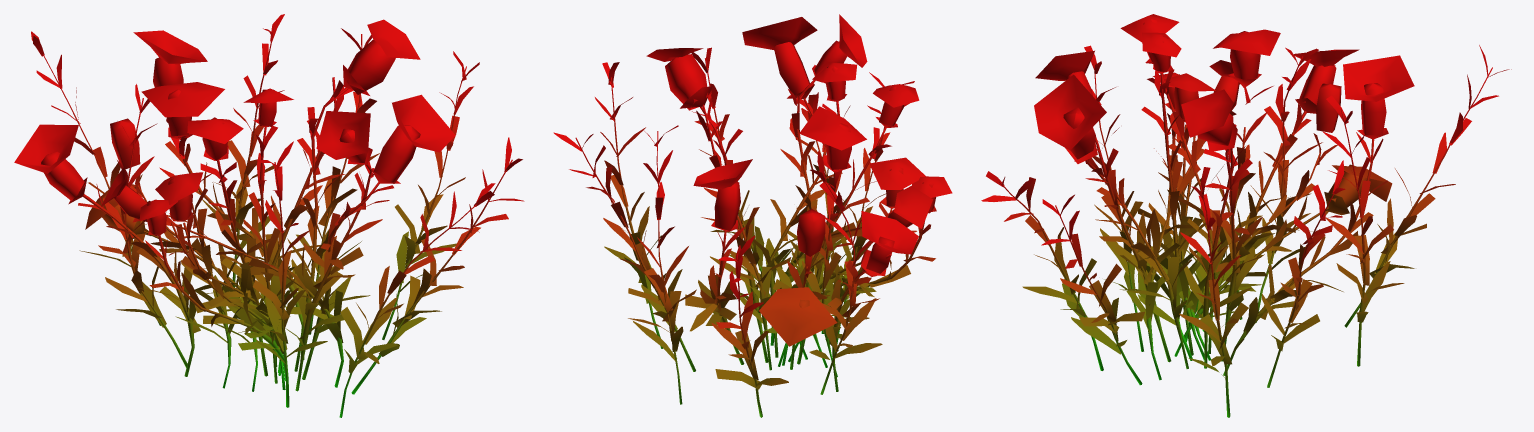
File: Var8_LOD2.fbx
3 renders of one model, left to right at view 1: azimuth 30°, elevation 25°; view 2: azimuth 150°, elevation 25°; view 3: azimuth 270°, elevation 25°, orthographic. The views are drawn at different scales.
Parts seen in each view (by area): view 1: _ktzx_Var8_LOD2; view 2: _ktzx_Var8_LOD2; view 3: _ktzx_Var8_LOD2.
Boxes of the visible parts, left/top/right/bottom form: _ktzx_Var8_LOD2: left=14, top=14, right=524, bottom=417; _ktzx_Var8_LOD2: left=553, top=14, right=952, bottom=417; _ktzx_Var8_LOD2: left=981, top=14, right=1511, bottom=417.
Bounding box in the file's own units: 36.76 × 28.8 × 43.42.
